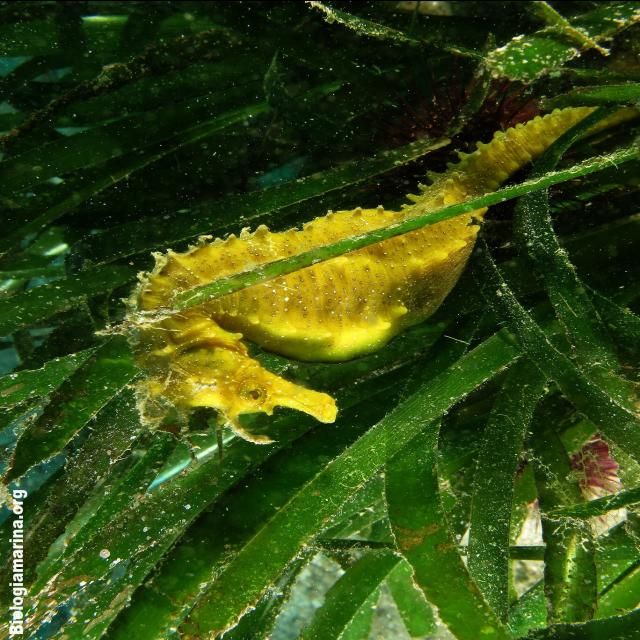Guttu: (146, 331, 348, 434)
